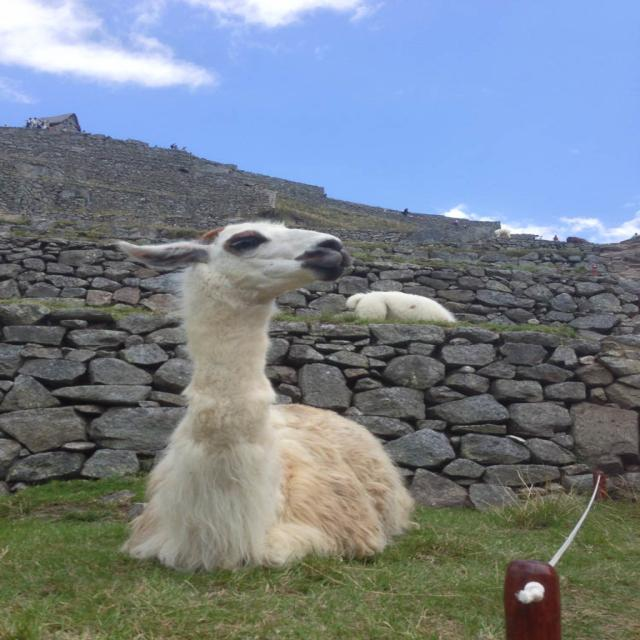alpaca: (115, 220, 418, 566)
